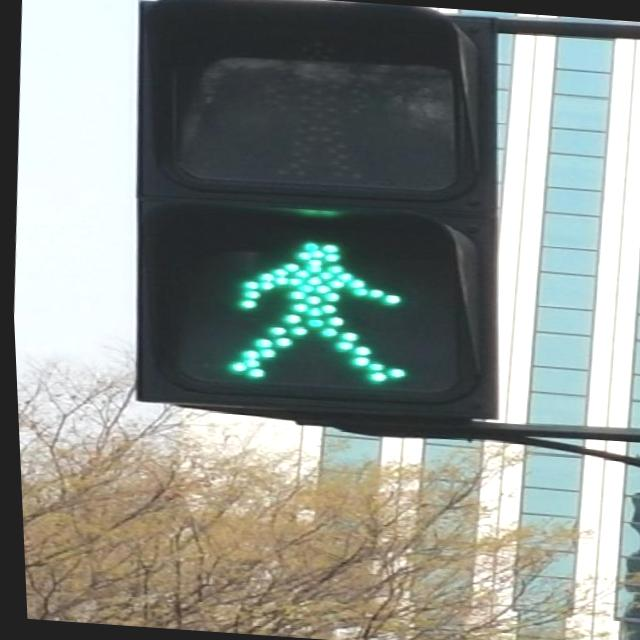green_light: (198, 213, 434, 401)
